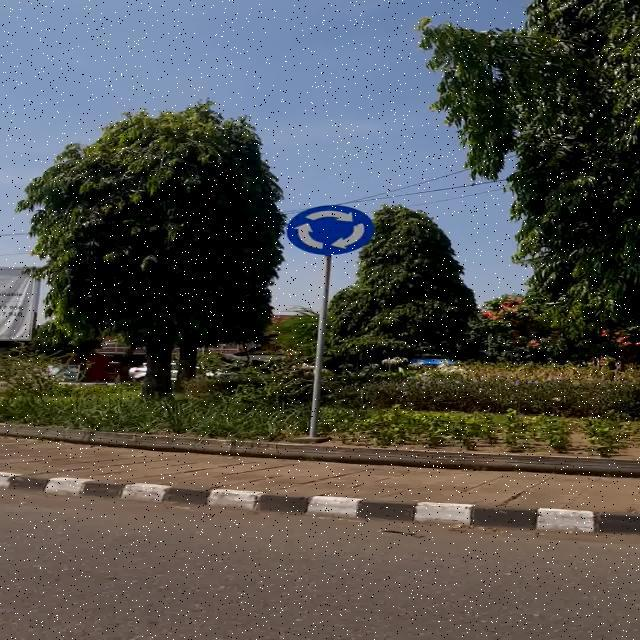Ikuti Bundaran: (286, 204, 376, 256)
